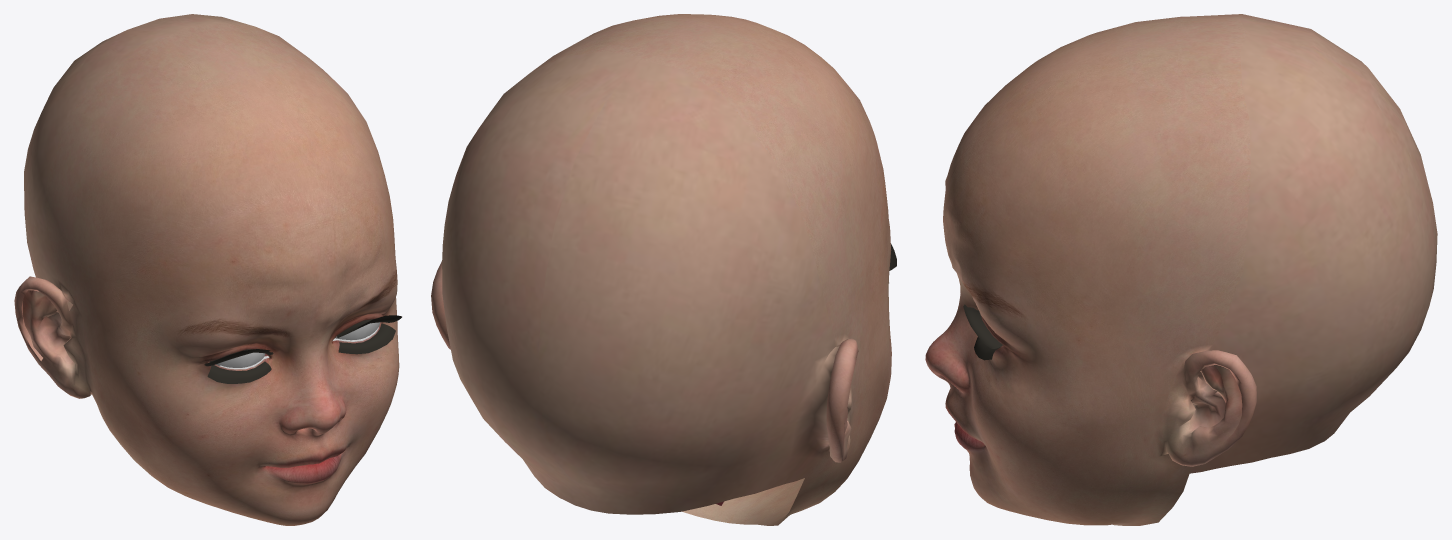
Rendered from Fat.obj.
3 renders of one model, left to right at view 1: azimuth 30°, elevation 25°; view 2: azimuth 150°, elevation 25°; view 3: azimuth 270°, elevation 25°, orthographic. The views are drawn at different scales.
Parts seen in each view (by area): view 1: head, rEye; view 2: head; view 3: head.
Part boxes in pixels (left/top/right/bottom): head: left=14, top=14, right=401, bottom=525; rEye: left=216, top=352, right=264, bottom=367; head: left=431, top=14, right=896, bottom=525; head: left=925, top=14, right=1437, bottom=525.
Size of the model in its own units: 18.41 by 21.78 by 20.97.
